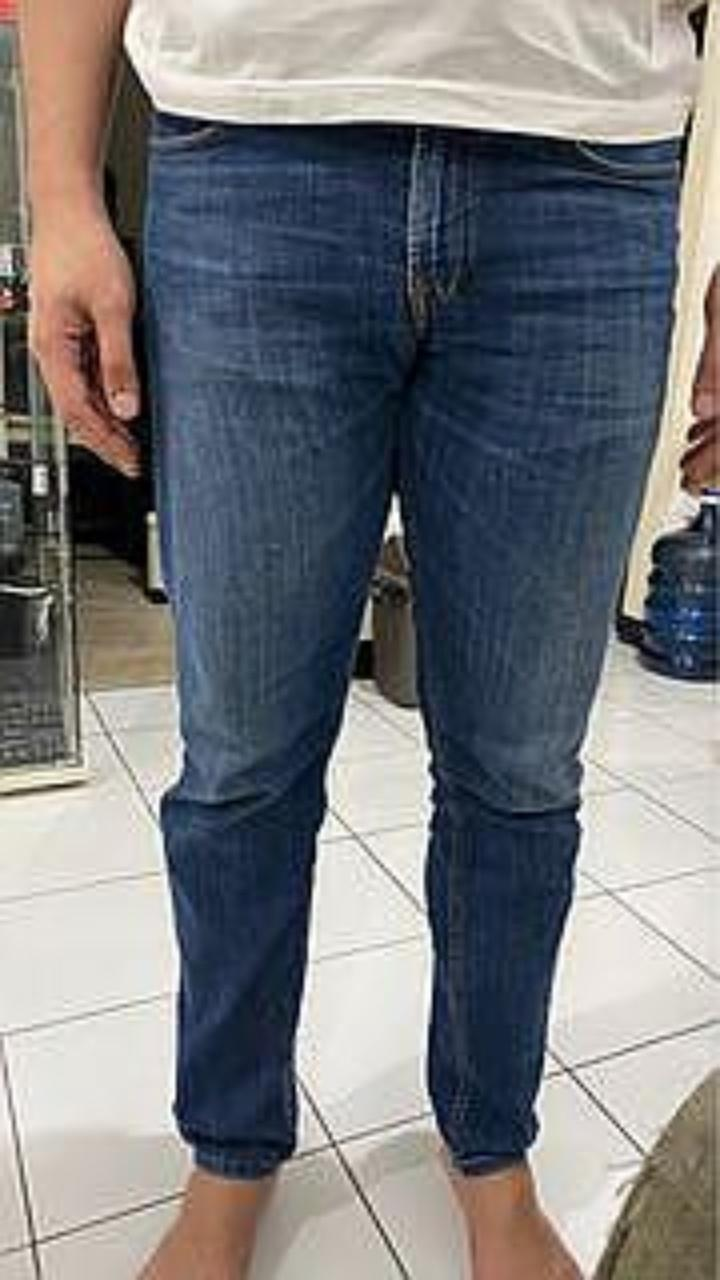Jeans: (145, 114, 680, 1176)
